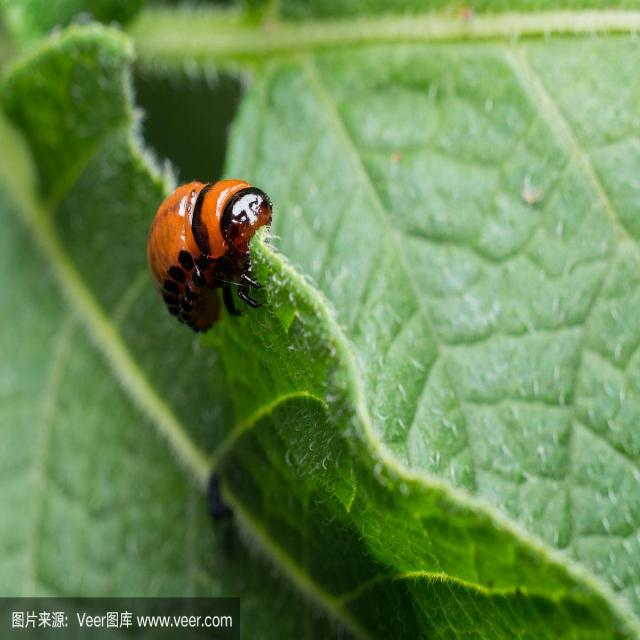ShuCaiHuaBanChong-Larva-: (141, 159, 281, 330)
